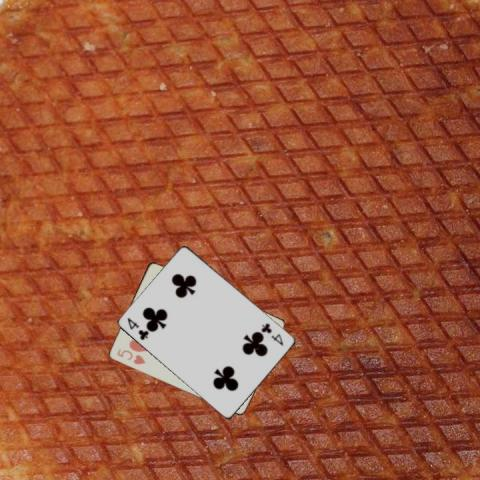4c: (259, 320, 285, 347), (124, 315, 150, 341)
5h: (113, 346, 147, 366)
